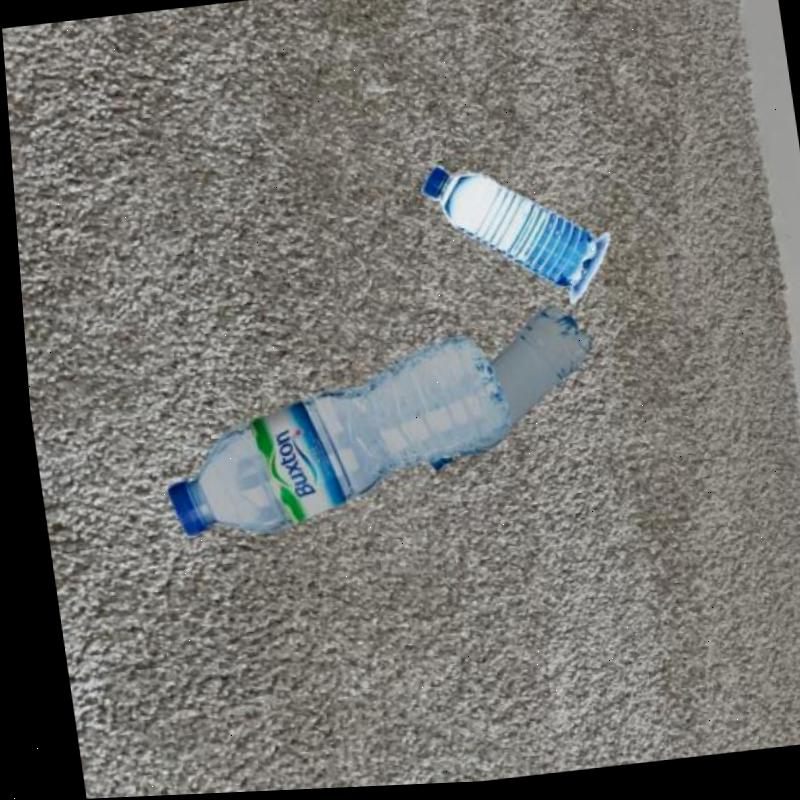botella: (141, 334, 518, 545), (401, 305, 600, 479), (414, 149, 600, 304)
